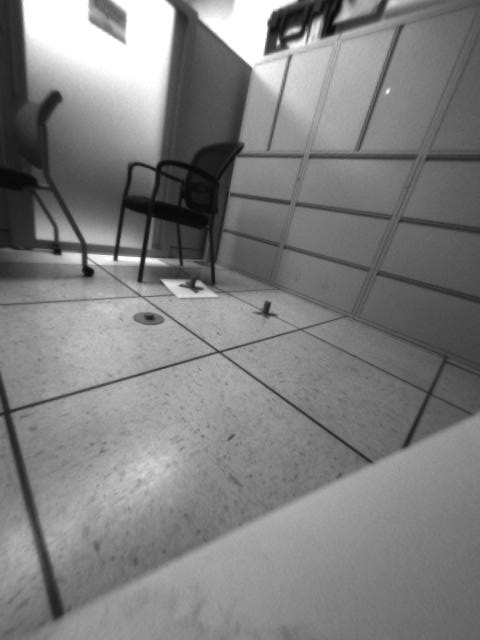X: (253, 296, 279, 319), (180, 277, 204, 295)
